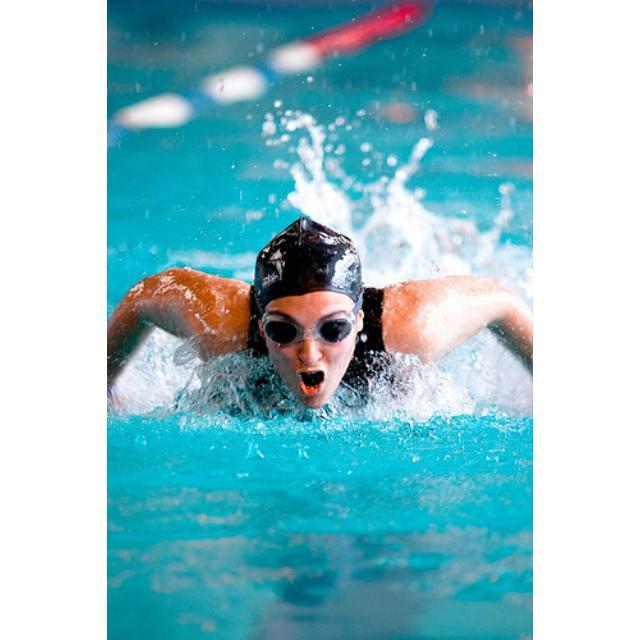human: (107, 213, 531, 417)
